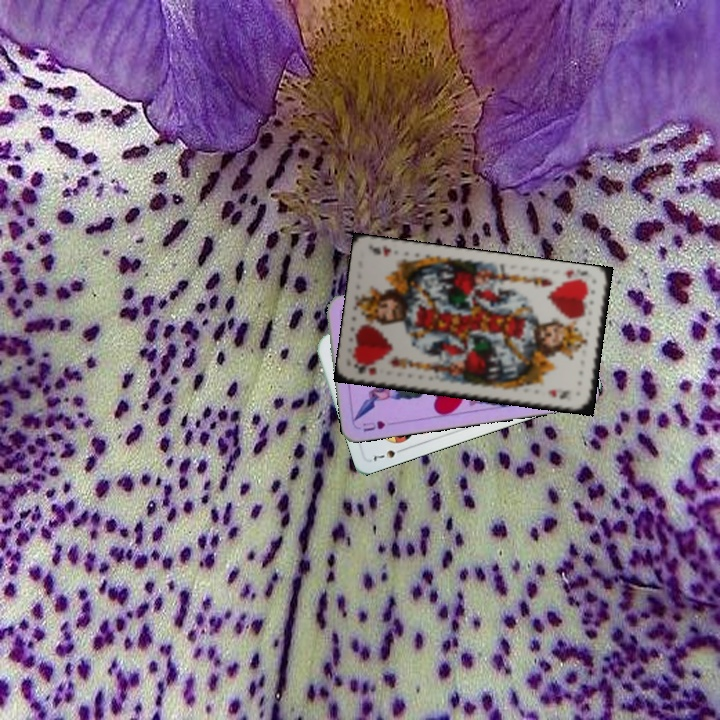HK: (351, 359, 378, 378), (561, 266, 592, 281)
HU: (359, 417, 387, 434)
S7: (369, 444, 408, 464)
